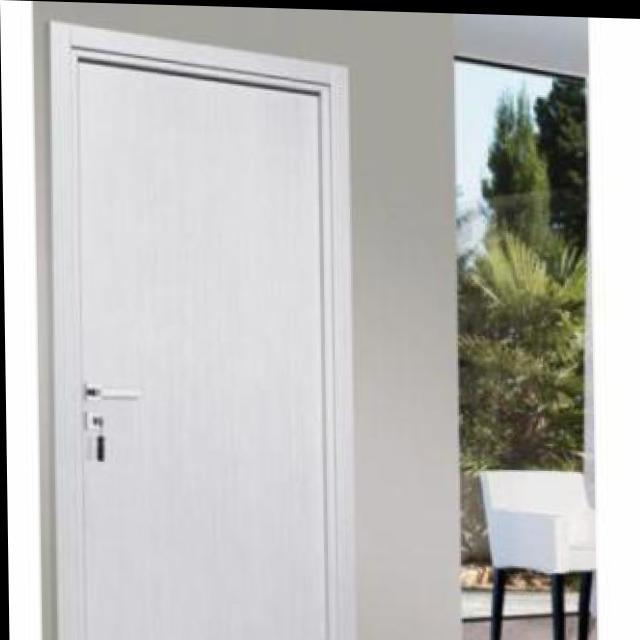door_handle: (77, 375, 152, 413)
